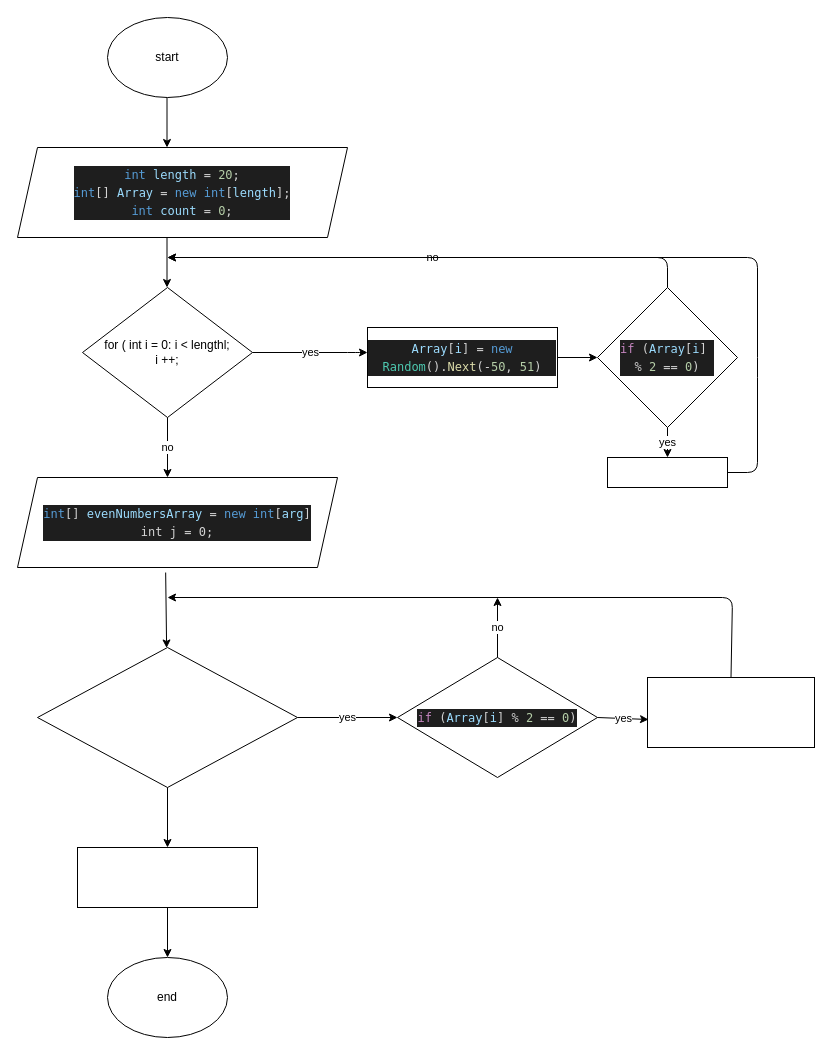
Image size: 832x1055. Some labels were removed from this diagram. Each missing label, with the box of its shape:
count ++: (606, 456, 728, 488)
evenNumbersArray [ j ] = Array [ i ]; j ++;: (646, 676, 814, 748)
for ( int i = 0 , j = 0 ; i < length ; i ++): (36, 646, 298, 788)
return evenNumbersArray: (76, 846, 258, 908)
